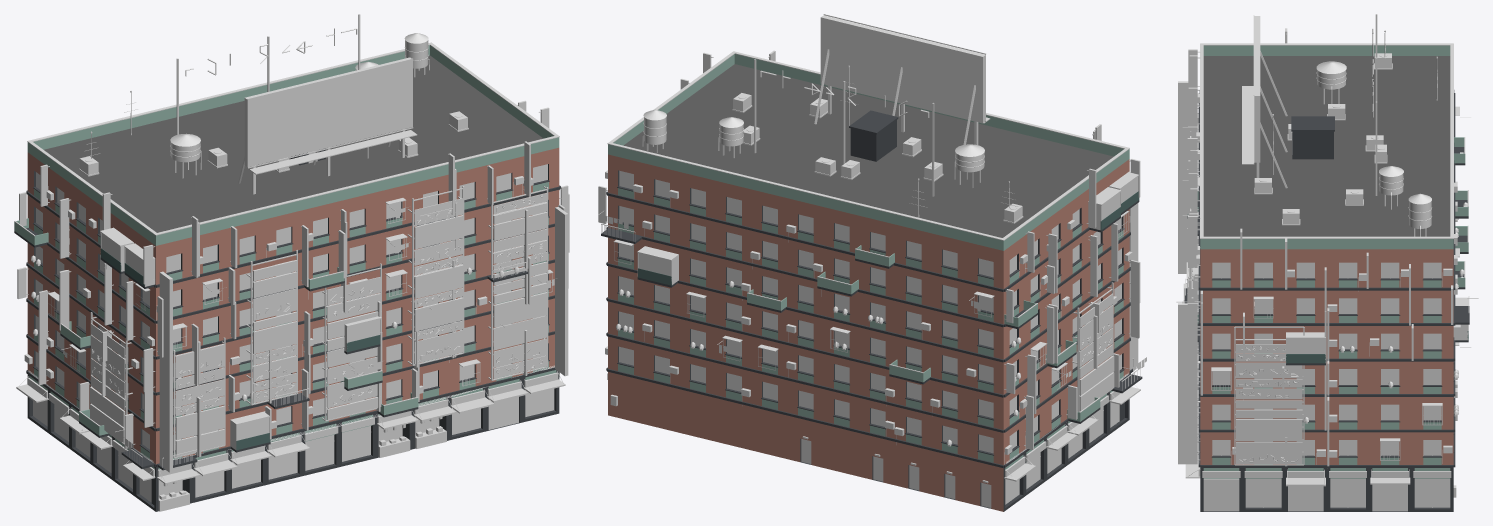
The model's file is LM_NM_SignCanyon.fbx.
3 renders of one model, left to right at view 1: azimuth 30°, elevation 25°; view 2: azimuth 150°, elevation 25°; view 3: azimuth 270°, elevation 25°, orthographic.
Visible parts, largest first — view 1: LM_NM_SignCanyon_LOD0; view 2: LM_NM_SignCanyon_LOD0; view 3: LM_NM_SignCanyon_LOD0.
Boxes of the visible parts, <box> form: LM_NM_SignCanyon_LOD0: <box>14,14,569,511</box>; LM_NM_SignCanyon_LOD0: <box>598,14,1146,511</box>; LM_NM_SignCanyon_LOD0: <box>1176,14,1478,511</box>.
Size of what is drawn, in the model's own units: 43.69 by 34.5 by 26.29.
